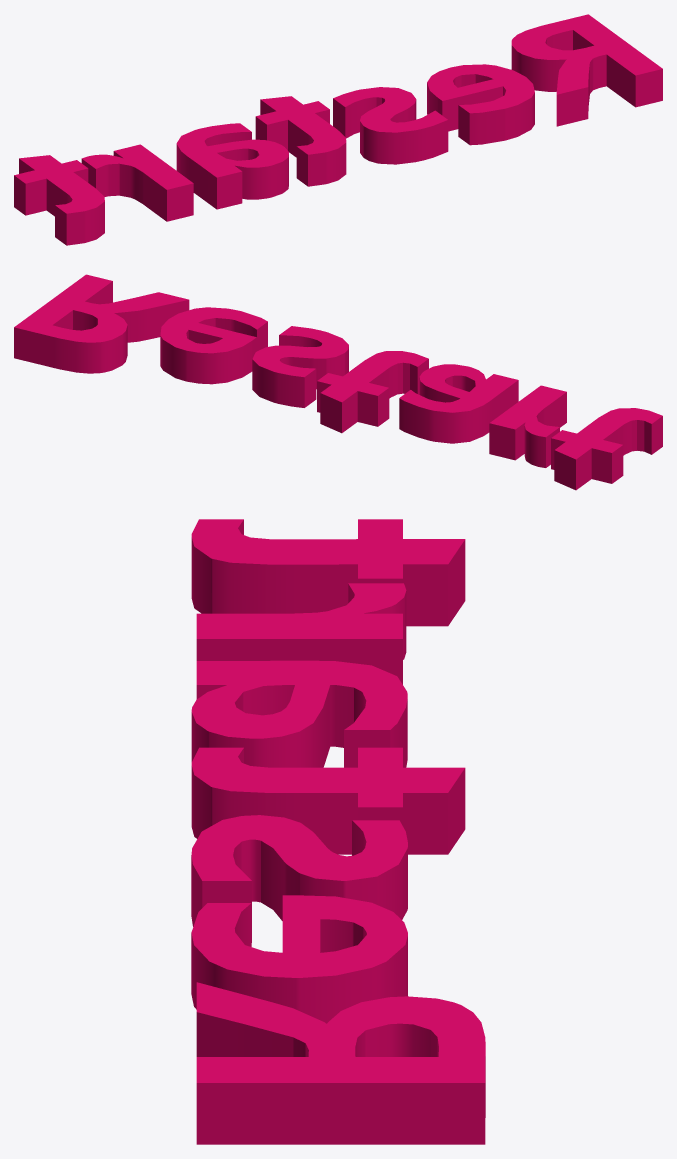
Rendered from Restart.fbx.
The picture shows the model from 3 angles, top to bottom: view 1: azimuth 30°, elevation 25°; view 2: azimuth 150°, elevation 25°; view 3: azimuth 270°, elevation 25°; orthographic projection. The views are drawn at different scales.
Parts seen in each view (by area): view 1: Char_R_1_curve2; view 2: Char_R_1_curve2; view 3: Char_R_1_curve2.
Boxes of the visible parts, x1,y1,x2,y2 form: Char_R_1_curve2: (14, 14, 662, 245); Char_R_1_curve2: (14, 274, 662, 490); Char_R_1_curve2: (191, 519, 485, 1144).
Bounding box in the file's own units: 86.23 × 4.43 × 19.02.
